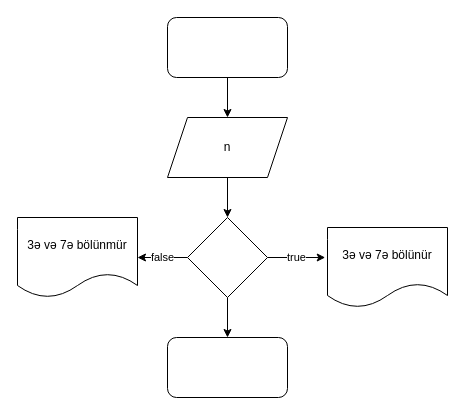
Some shapes in this 465 by 415 pixel diagram are drawn without their labels. Each missing label, with the box of its shape:
n%3==1 && n%7==1: (186, 216, 268, 298)
start: (166, 16, 288, 78)
